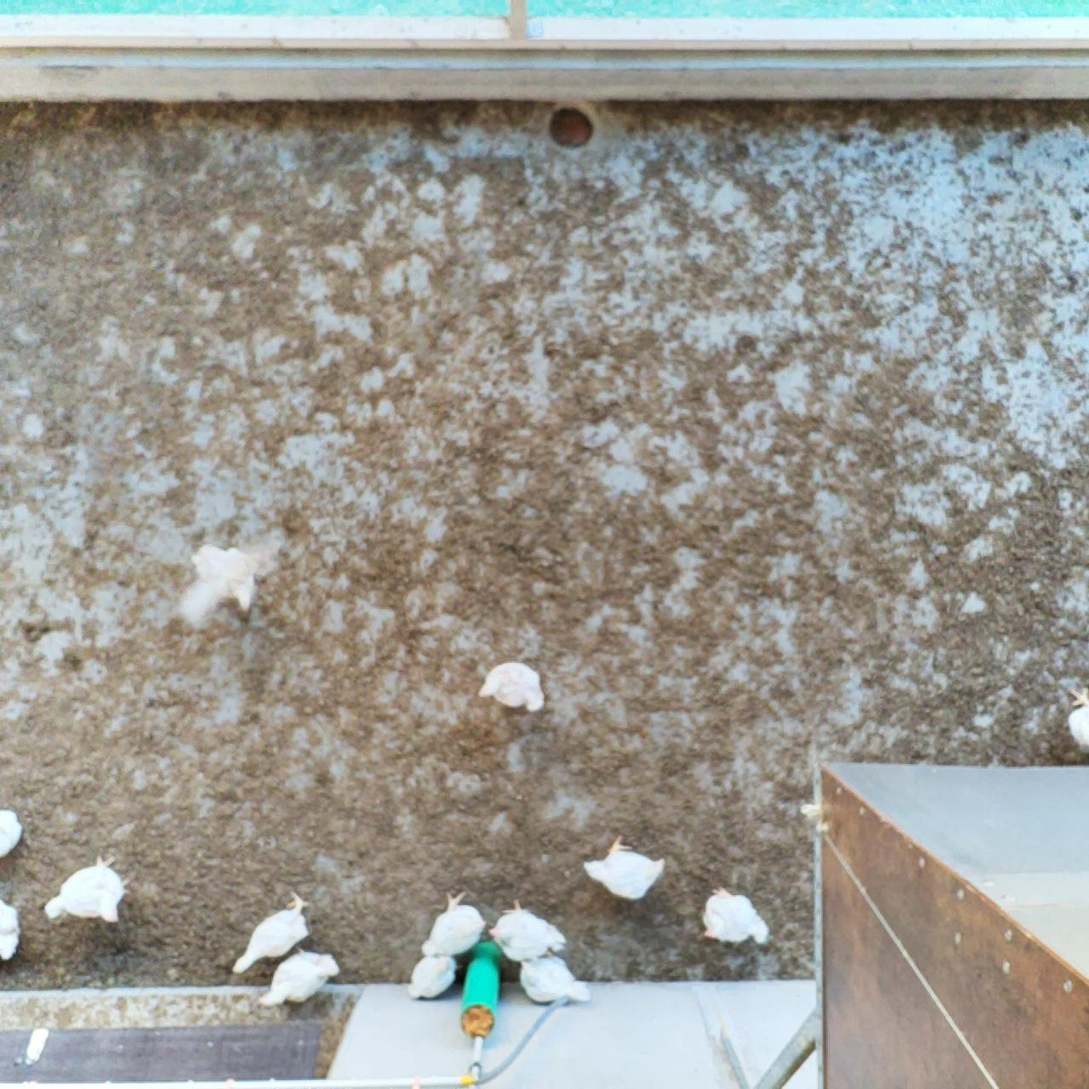chicken: (173, 526, 285, 635), (223, 882, 318, 981), (40, 847, 135, 936), (580, 830, 670, 907), (251, 941, 341, 1016), (484, 895, 570, 964), (694, 881, 774, 951), (418, 889, 488, 960), (516, 950, 593, 1009), (475, 657, 550, 717), (403, 951, 461, 1003), (1062, 681, 1089, 754), (0, 896, 25, 966), (0, 804, 26, 864)
